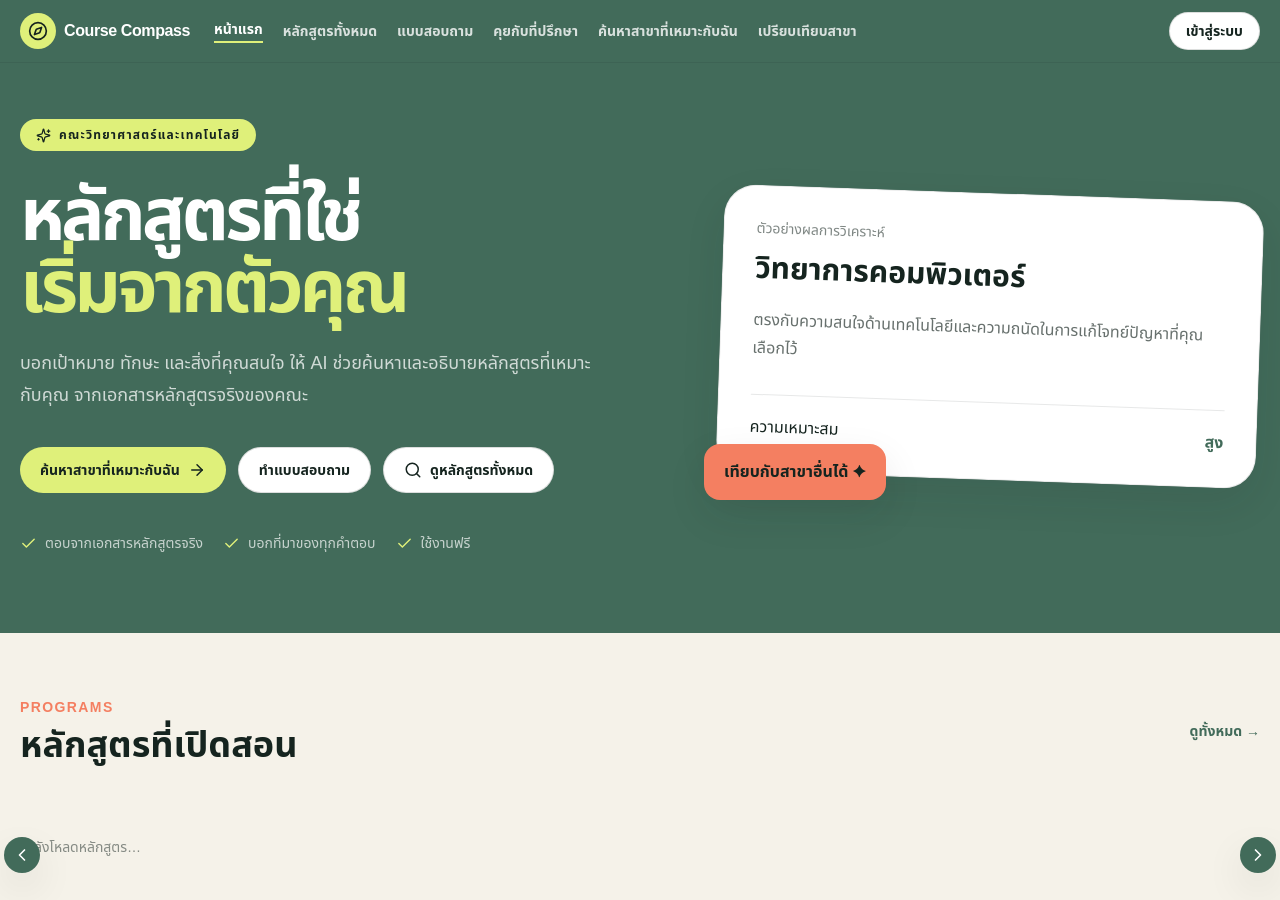
Test: authentication journey › logs in and continues to the questionnaire
This screenshot has width=1280, height=900.
Click the button "เข้าสู่ระบบ".
click(1214, 31)  # box [1169, 12, 1260, 50]
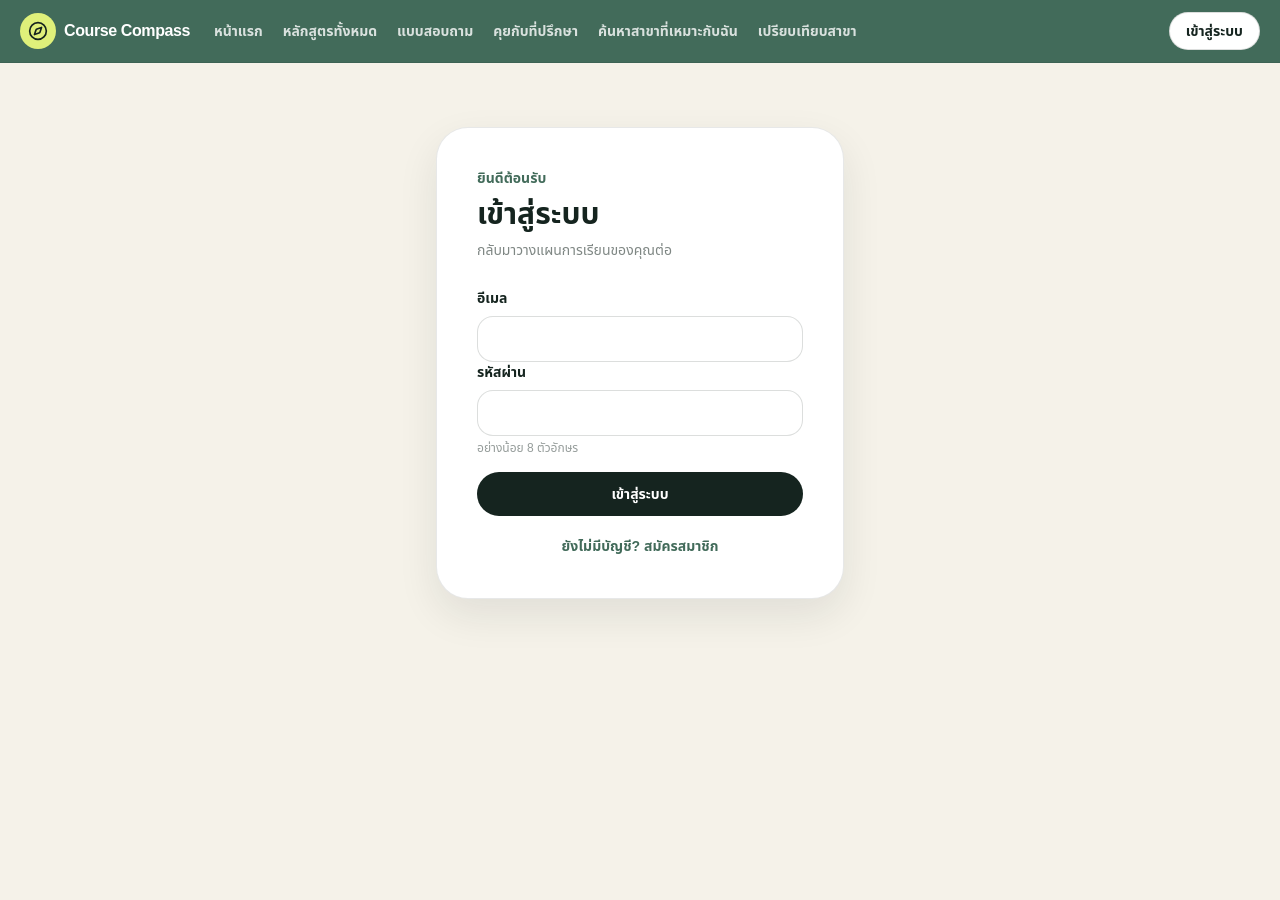
Type "learner@example.com" into the field labelled "อีเมล".
click(640, 339); type("learner@example.com")  # box [477, 316, 803, 362]
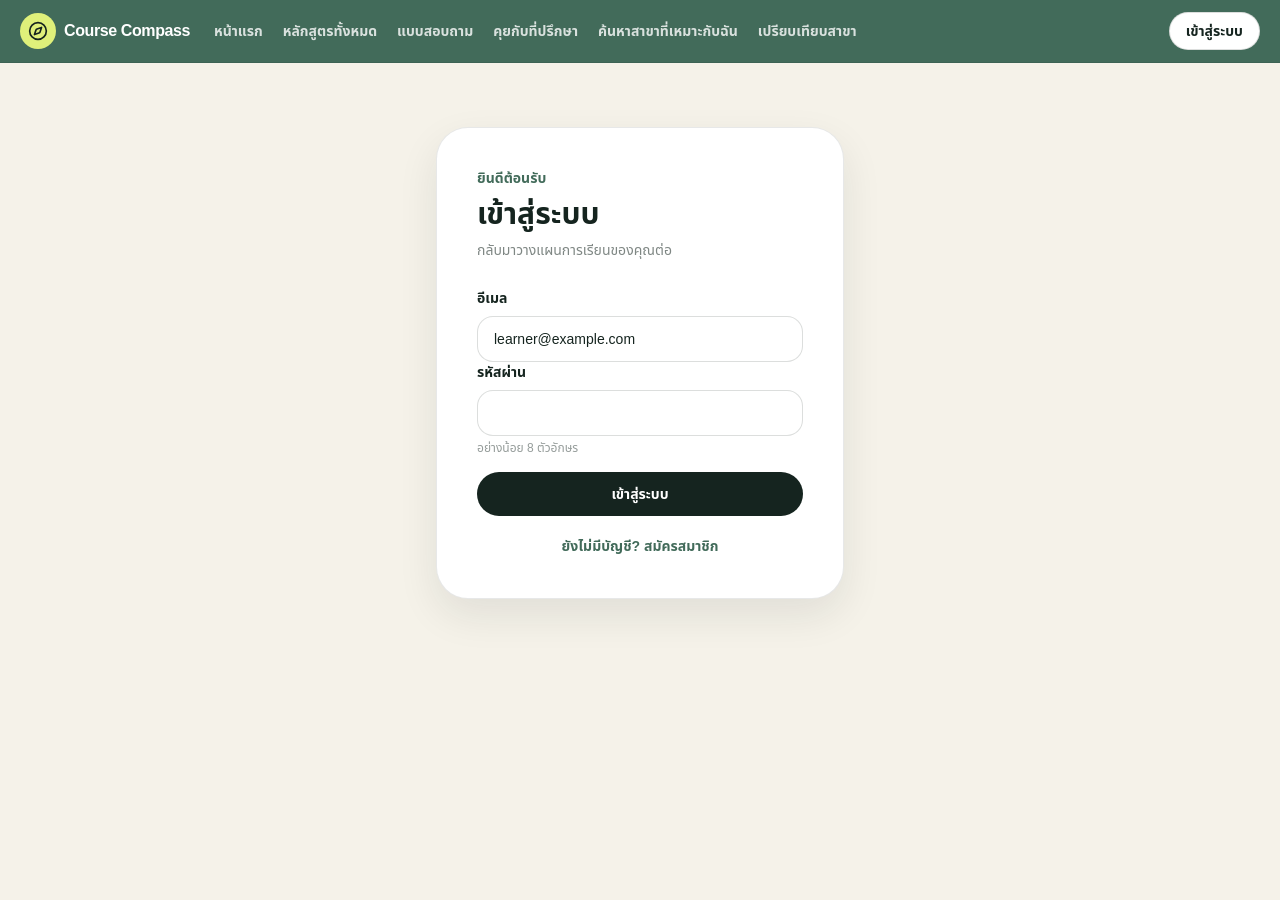
Type "password123" into the password field labelled "รหัสผ่าน อย่างน้อย 8 ตัวอักษร".
click(640, 413); type("password123")  # box [477, 390, 803, 436]
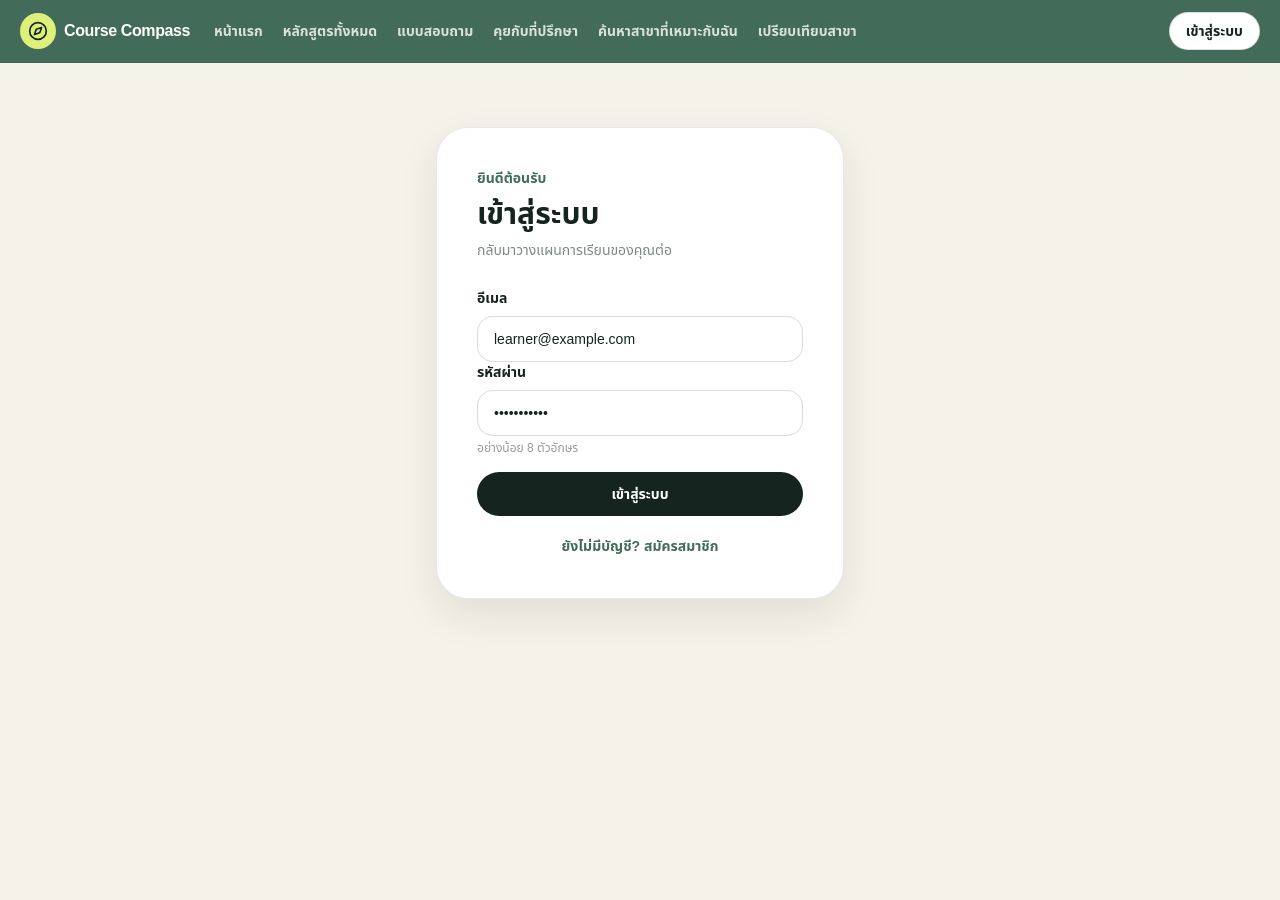
Click the button "เข้าสู่ระบบ" below "อย่างน้อย 8 ตัวอักษร".
click(640, 494)  # box [477, 472, 803, 516]
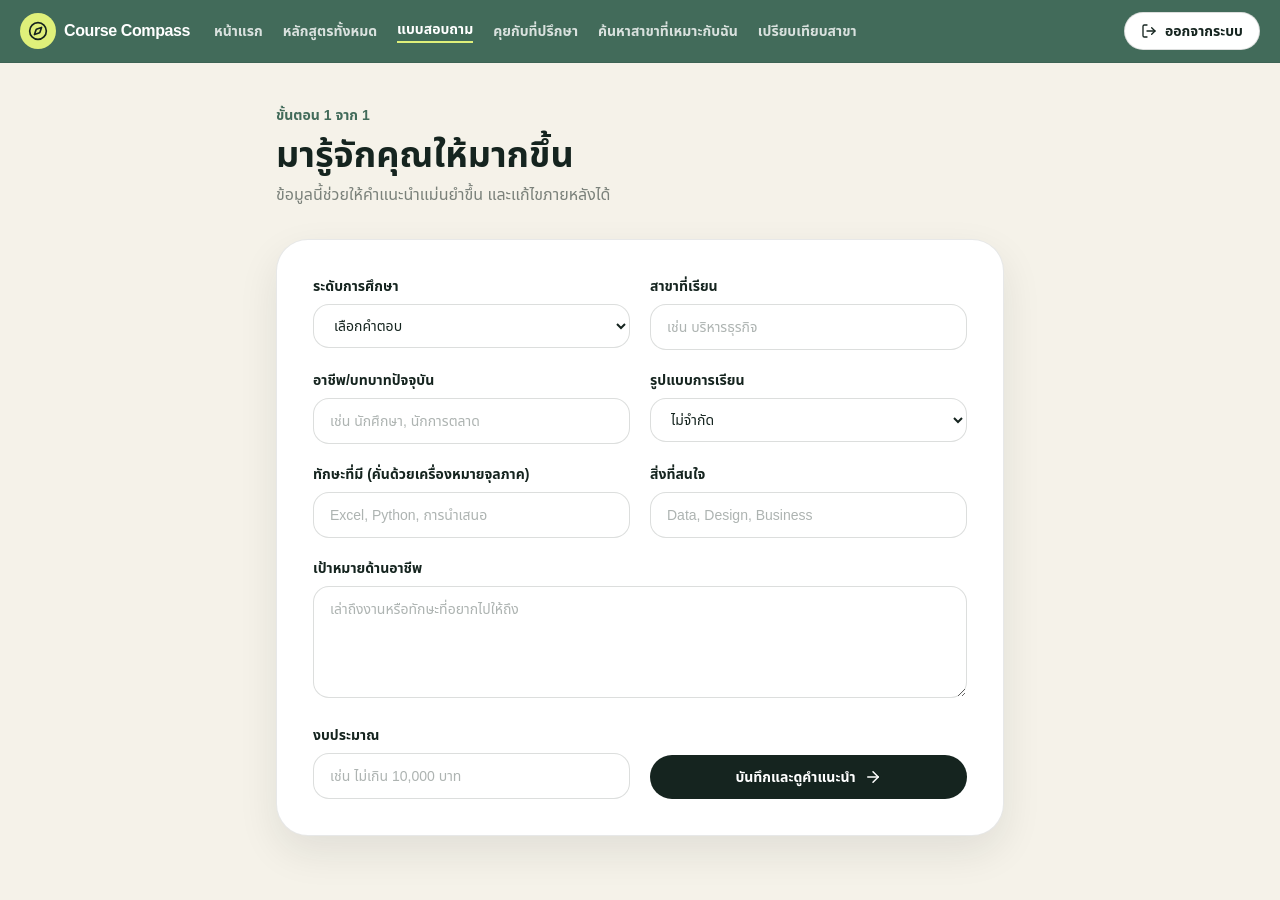
Expected: the heading "มารู้จักคุณให้มากขึ้น" is shown, [276, 134, 574, 175]
